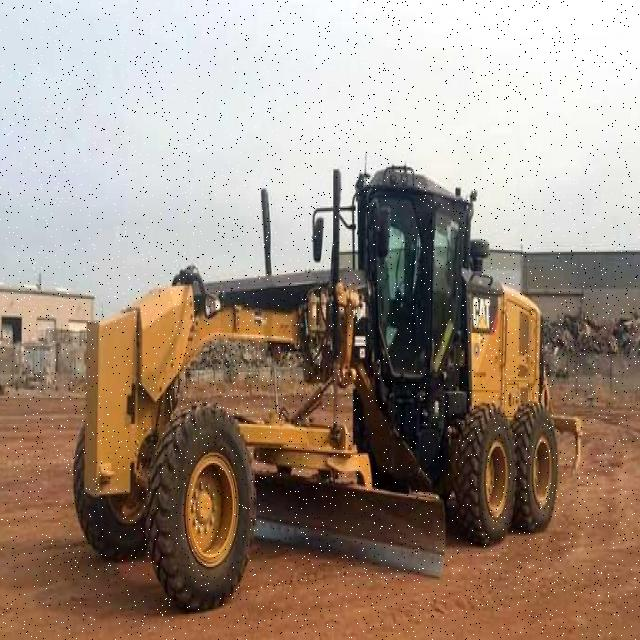Grader: (63, 127, 586, 609)
